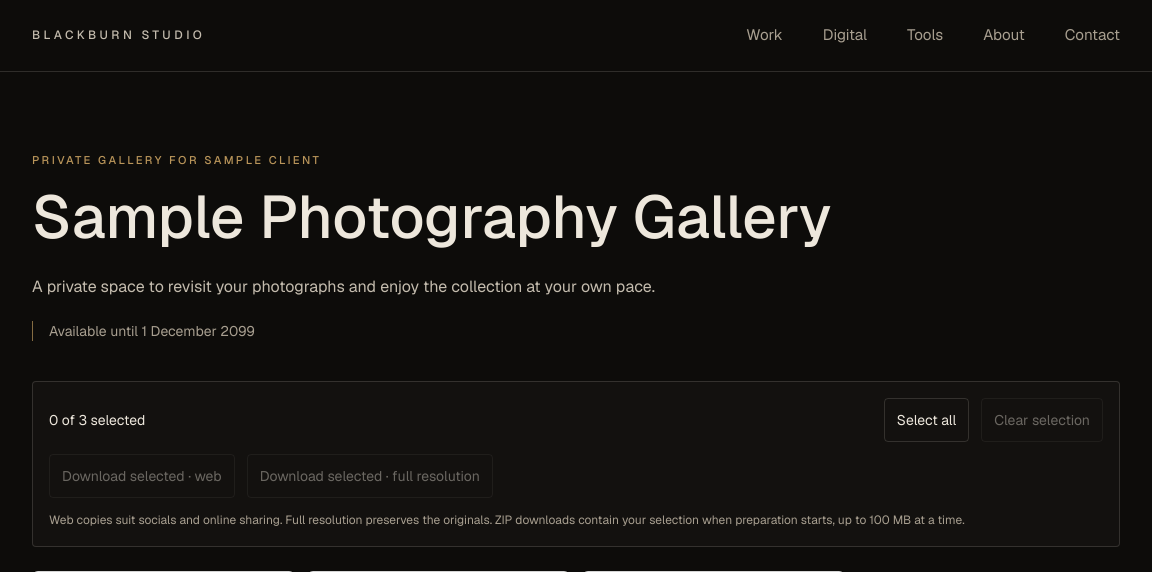
revokes a prepared ZIP URL when the gallery closes
What coordinates should you click on to do the following:
click the button "Select all"
I would click on:
 (926, 420)
Its box is top-left (884, 398), bottom-right (969, 442).
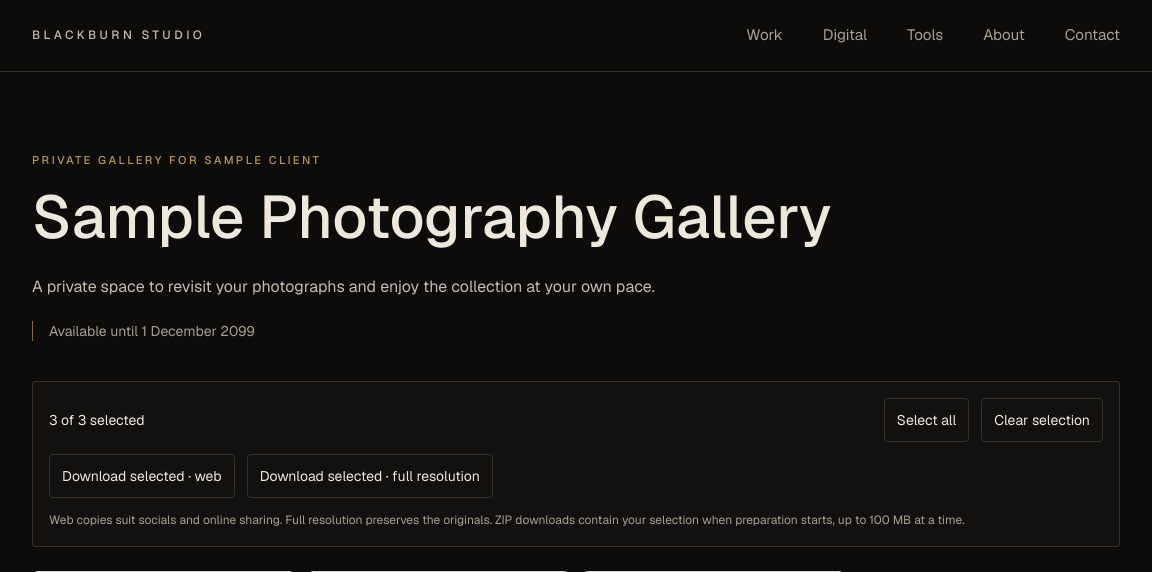
What coordinates should you click on to do the following:
click the button "Download selected · web"
I would click on:
 (142, 476)
Its box is top-left (49, 454), bottom-right (235, 498).
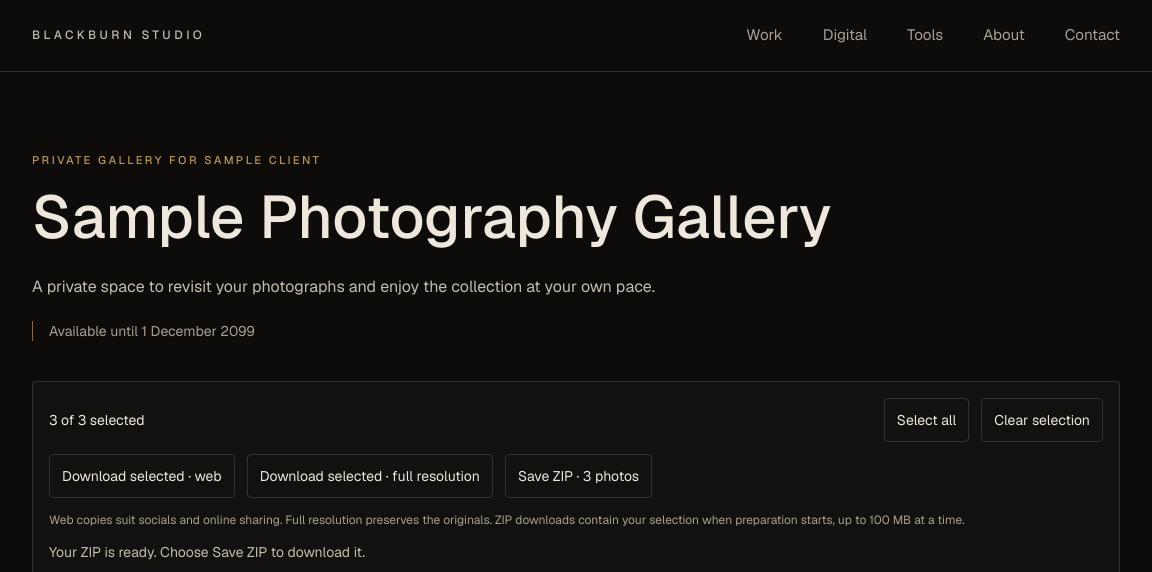
Check: the link "Save ZIP · 3 photos" is shown, box top-left (505, 454), bottom-right (652, 498)
